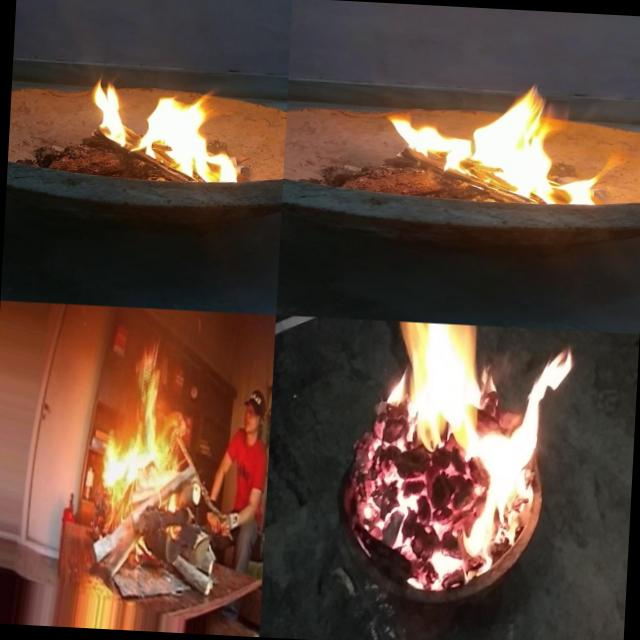fire: (374, 322, 576, 606), (382, 74, 629, 210), (73, 66, 269, 186), (100, 341, 193, 514), (342, 390, 385, 564)
